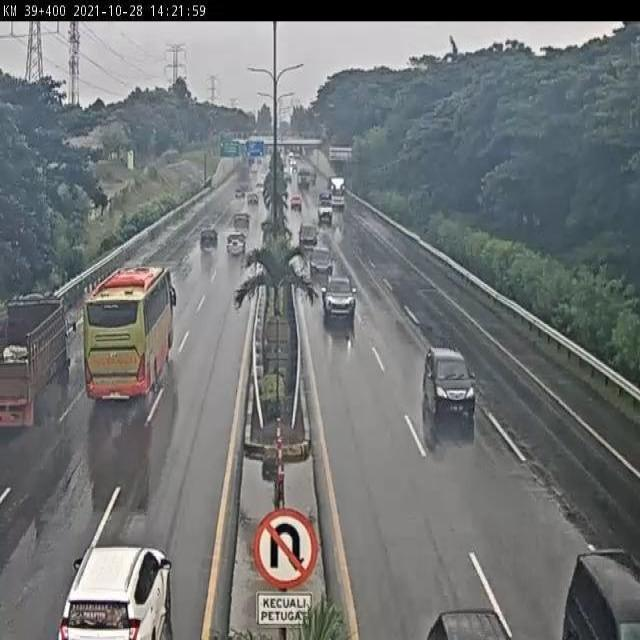Bus: (82, 266, 176, 402)
Car: (58, 545, 172, 640), (560, 550, 640, 638), (421, 343, 477, 442), (425, 608, 514, 638), (321, 276, 357, 328), (309, 246, 334, 279), (226, 232, 247, 256), (200, 228, 218, 252), (299, 224, 318, 246), (233, 212, 250, 230), (290, 194, 302, 211), (247, 192, 259, 204), (235, 186, 244, 198)
Truck: (0, 292, 77, 431), (326, 174, 348, 213), (316, 192, 334, 221), (297, 169, 311, 191)
